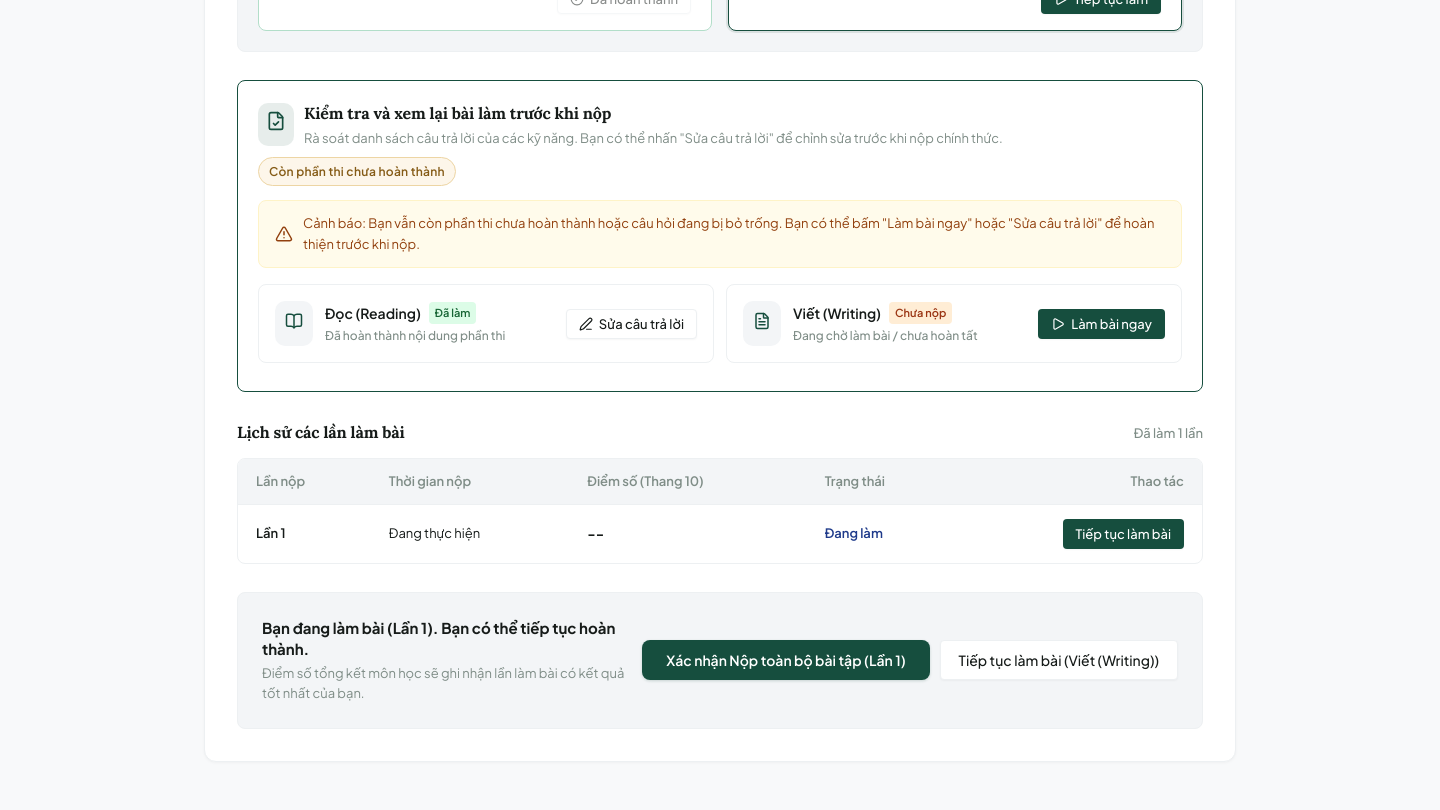
Scenario: StudentAssignmentOverview - Pre-Submit Review Dashboard (UC020 & UC021) › opens ConfirmModal (UC021 / AD21) when clicking "Xác nhận Nộp toàn bộ bài tập"
The width and height of the screenshot is (1440, 810).
(page scrolled)
Expected: the heading "Kiểm tra và xem lại bài làm trước khi nộp" is shown, [304,102,611,122]
Click the button "Xác nhận Nộp toàn bộ bài tập (Lần 1)".
click(786, 660)  # box [642,640,930,680]
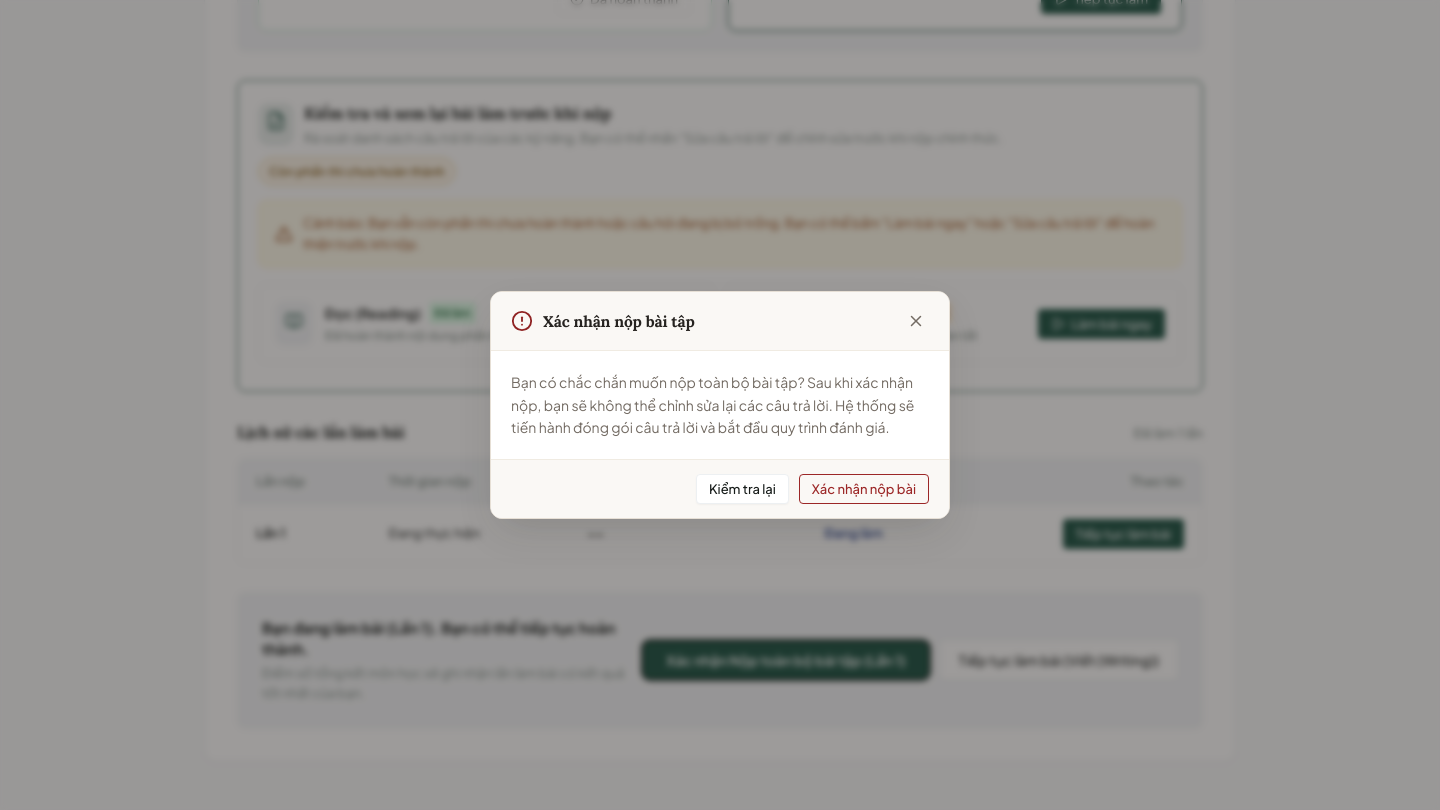
Expected: the dialog is shown
Expected: the heading "Xác nhận nộp bài tập" is shown, [543,309,695,334]
Expected: the text "Bạn có chắc chắn muốn nộp toàn bộ bài tập? Sau khi xác nhận nộp, bạn sẽ không thể chỉnh sửa lại các câu trả lời. Hệ thốn" is shown, [511,373,914,436]
Click the button "Kiểm tra lại".
click(742, 489)  # box [696,474,789,504]
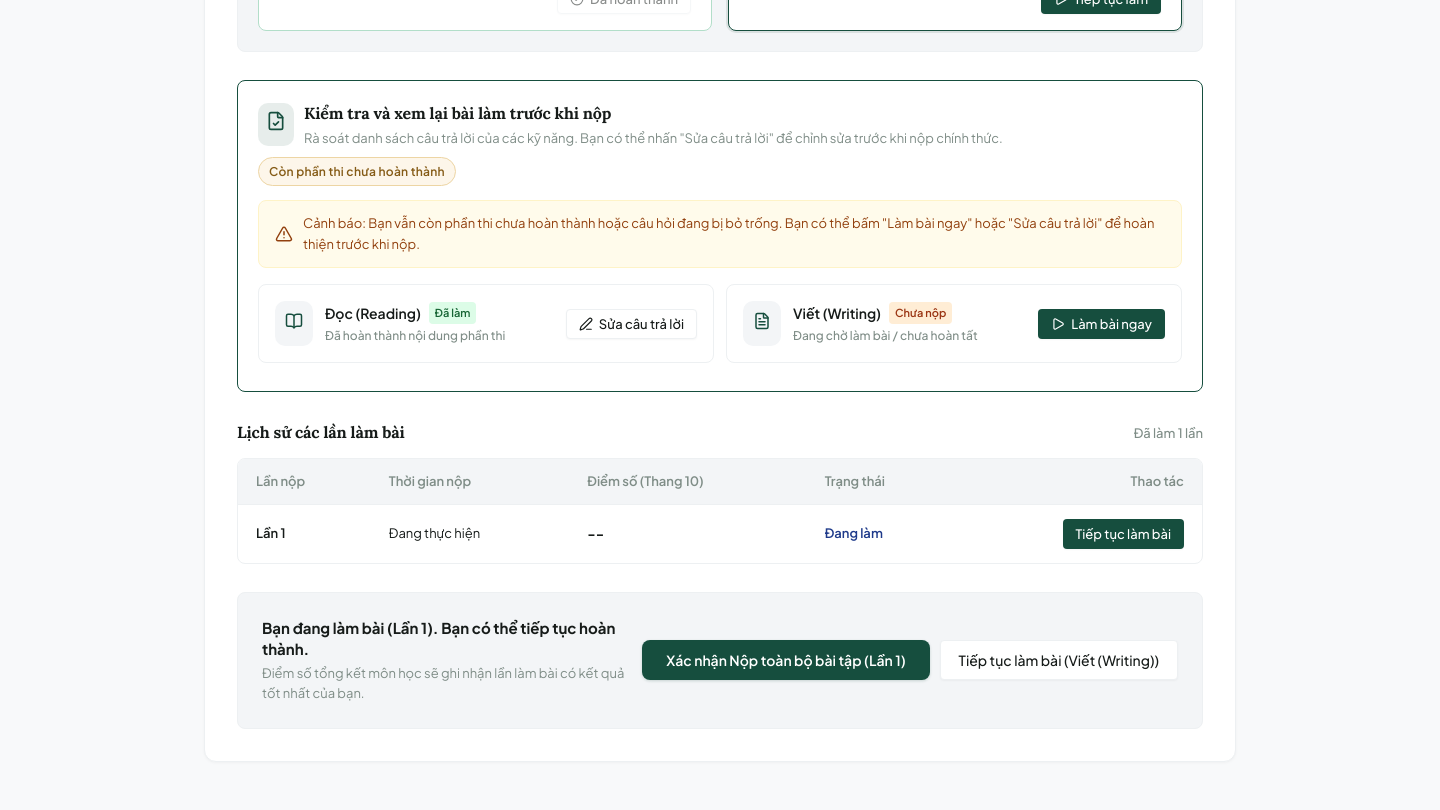
Expected: the dialog is gone
